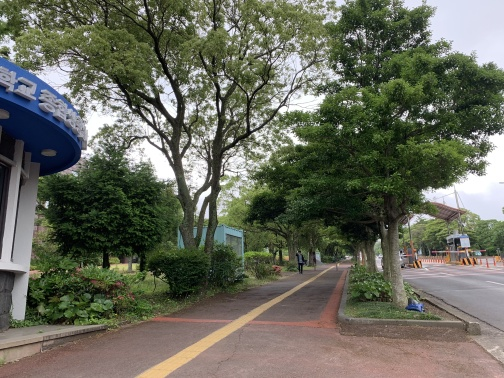Security Office: (1, 53, 111, 358)
